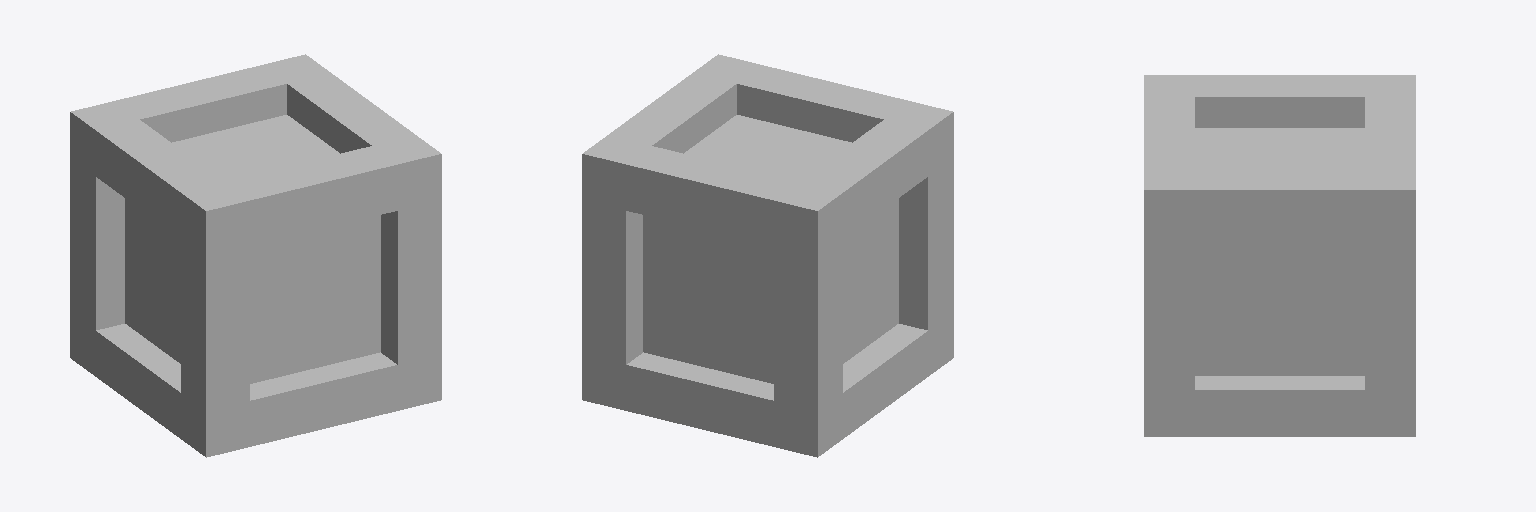
The model's file is reflection_chamber.obj.
The picture shows the model from 3 angles: view 1: azimuth 30°, elevation 25°; view 2: azimuth 150°, elevation 25°; view 3: azimuth 270°, elevation 25°; orthographic projection.
Parts seen in each view (by area): view 1: model; view 2: model; view 3: model.
Boxes of the visible parts, x1=… form: model: x1=70, y1=54, x2=441, y2=457; model: x1=582, y1=54, x2=953, y2=457; model: x1=1144, y1=75, x2=1415, y2=436.
Size of the model in its own units: 1 by 1 by 1.